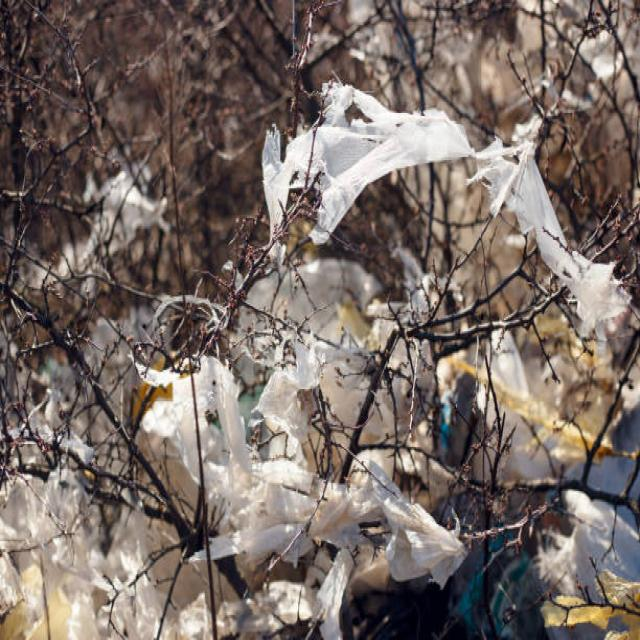plastic: (1, 301, 539, 599)
